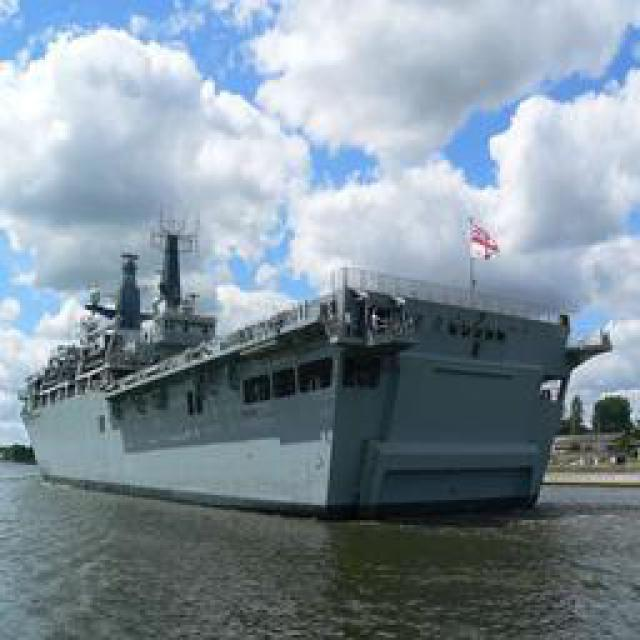Ship: (30, 243, 583, 521)
